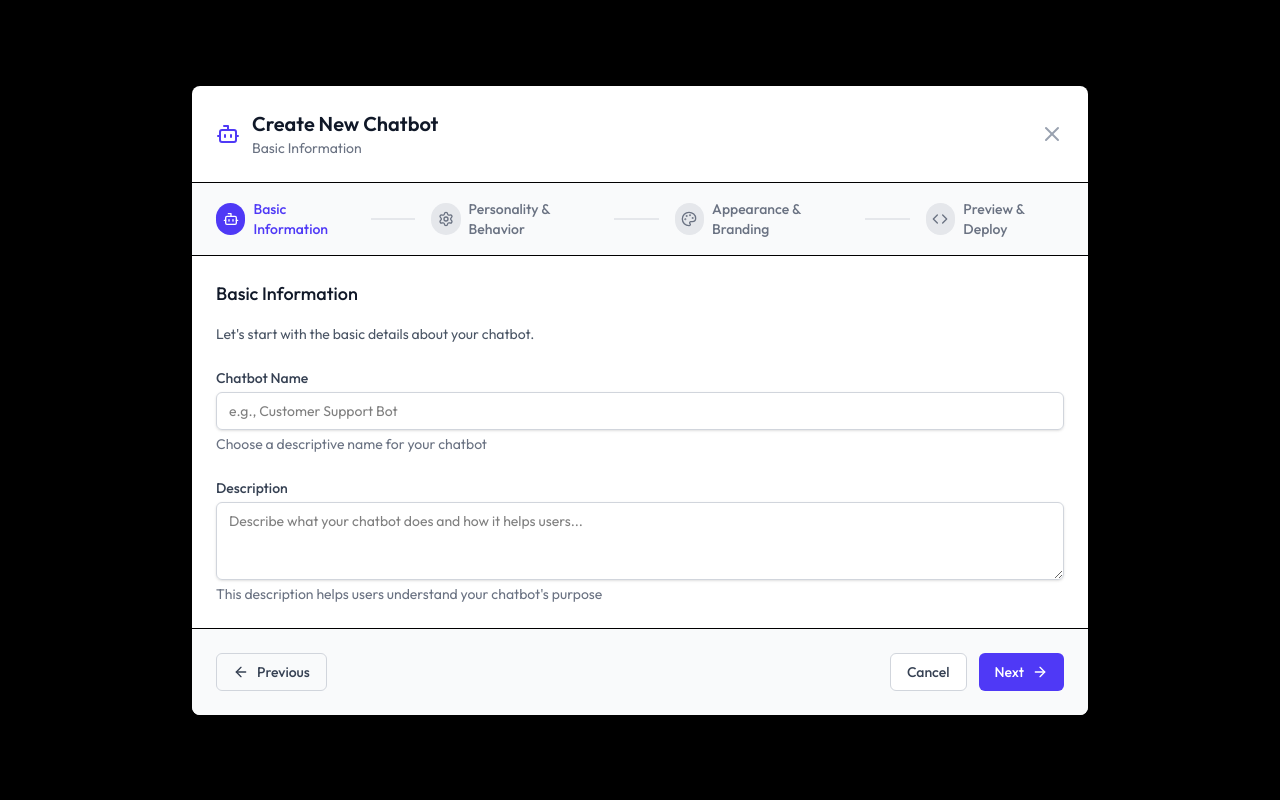
Test: ChatbotWizard › Form Validation › shows validation errors for required fields
// Try to go to next step without filling required fields
Click the button "Next".
click(1021, 672)  # box [978,652,1064,690]
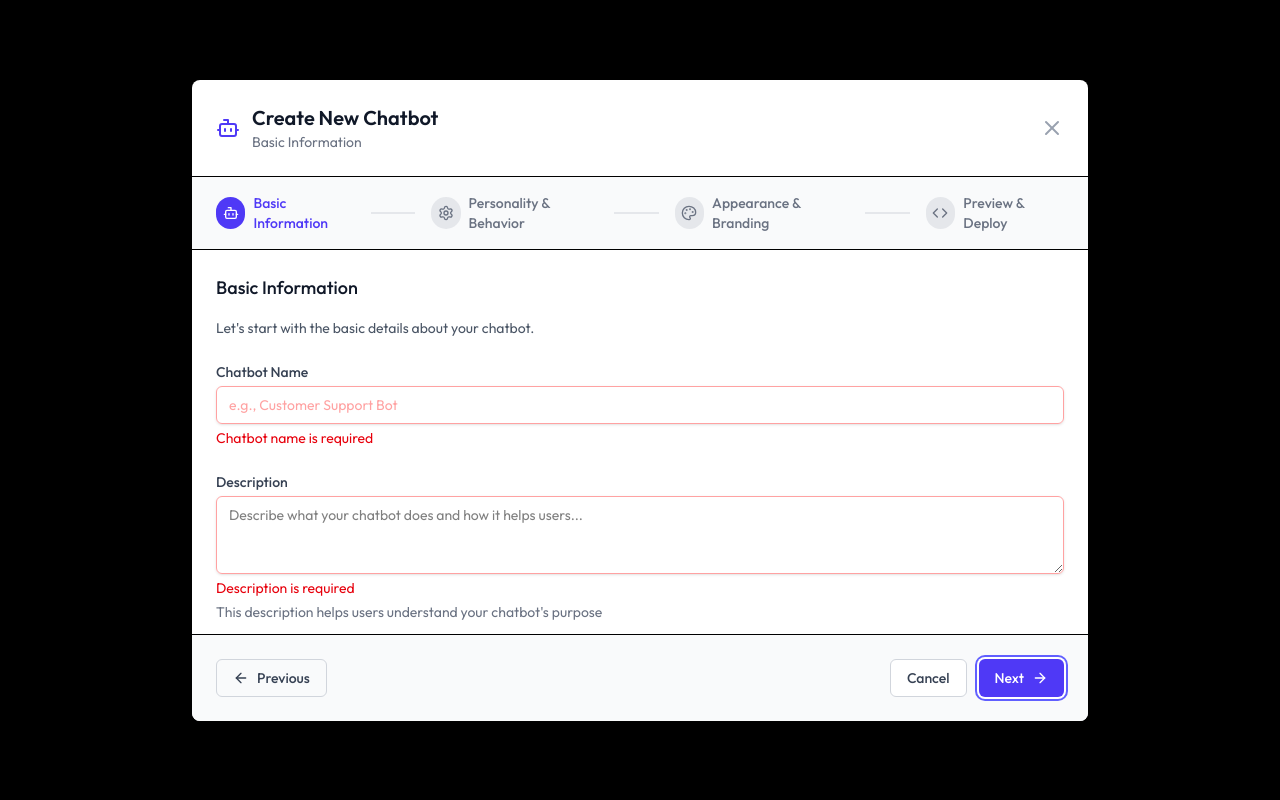
expect the text "Chatbot name is required" is shown: met, box [216,428,373,446]
expect the text "Description is required" is shown: met, box [216,578,355,596]
